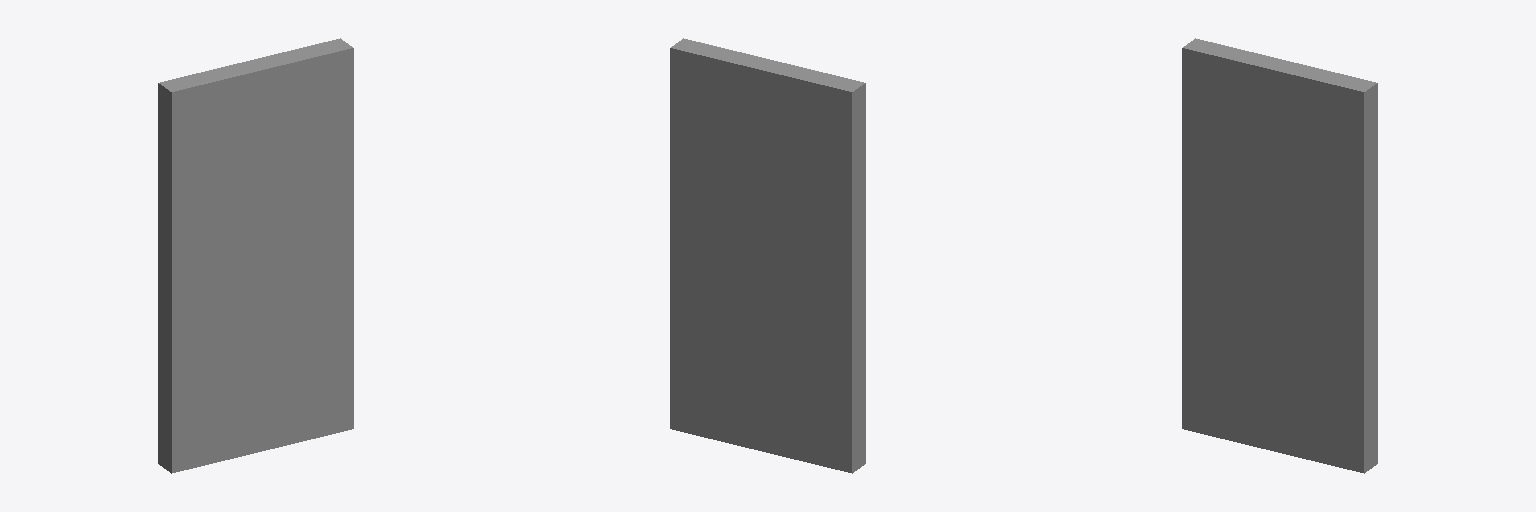
Rendered from door_new_a.obj.
3 renders of one model, left to right at view 1: azimuth 30°, elevation 25°; view 2: azimuth 150°, elevation 25°; view 3: azimuth 330°, elevation 25°, orthographic.
Parts seen in each view (by area): view 1: Cube_Cube.001.001; view 2: Cube_Cube.001.001; view 3: Cube_Cube.001.001.
Boxes of the visible parts, <box> form: Cube_Cube.001.001: <box>158,38,353,473</box>; Cube_Cube.001.001: <box>670,38,865,473</box>; Cube_Cube.001.001: <box>1182,38,1377,473</box>.
Bounding box in the file's own units: 0.998 × 2 × 0.124.